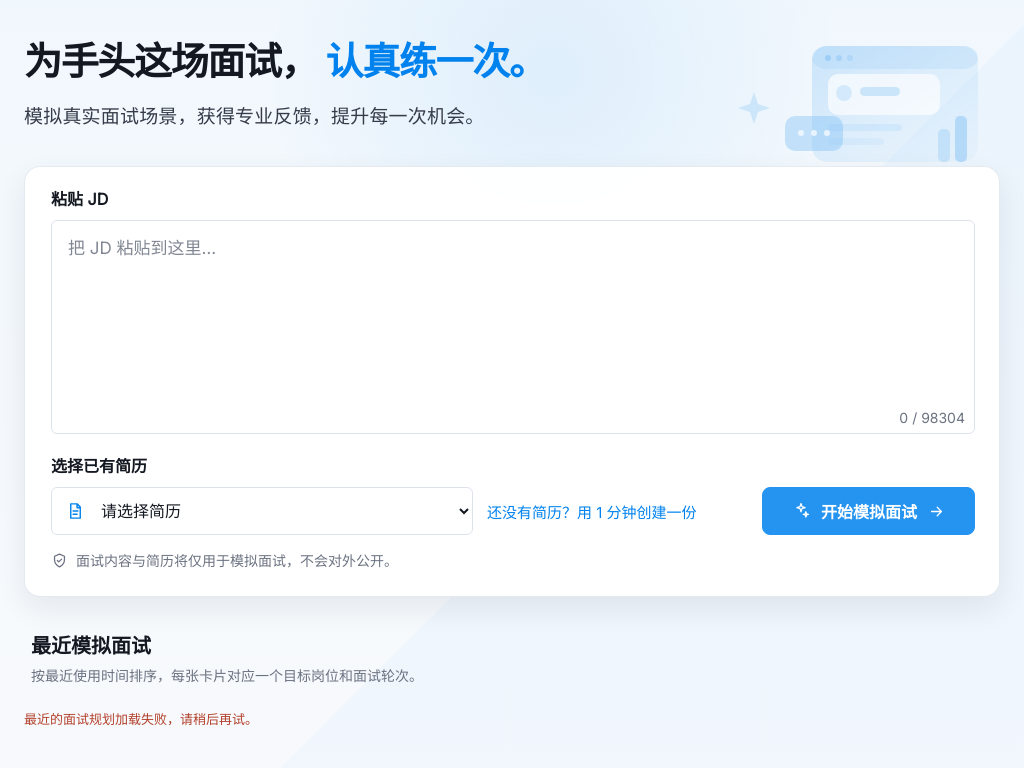
Test: HomeImport — paste-only › renders a user-safe import failure and keeps the paste ready to retry
Select "Alice Example - Senior Frontend Engineer" in the dropdown with test id "home-resume-select". click: (262, 511)
box: [51,487,473,535]
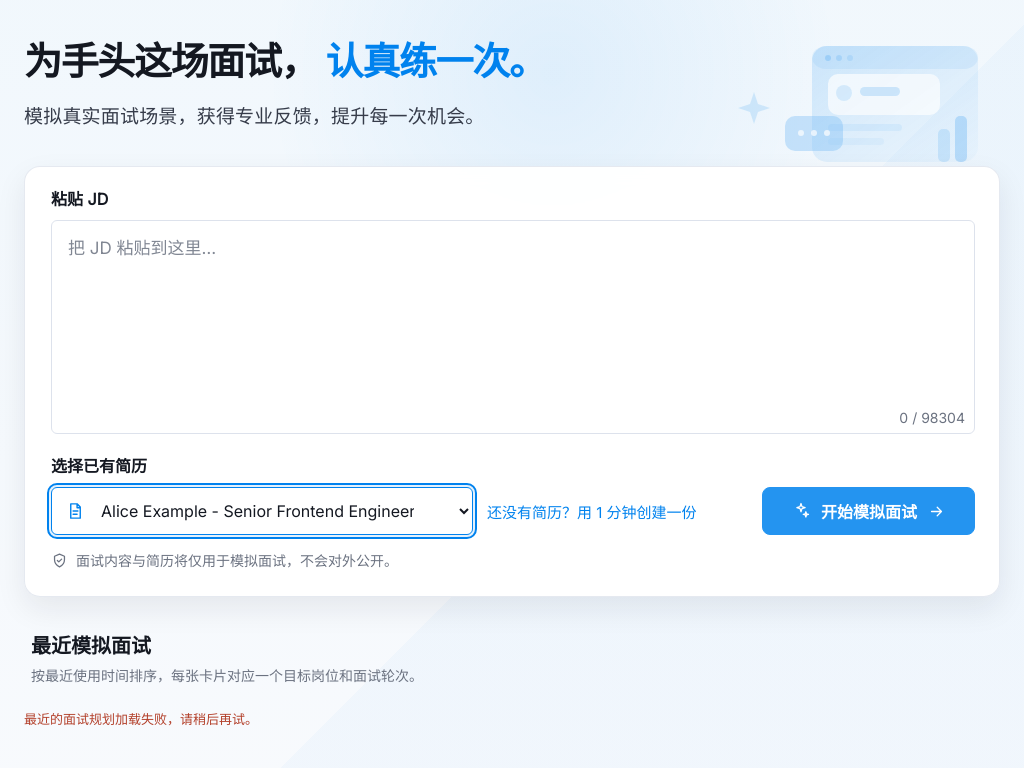
Type "Senior Frontend Engineer needed" into the text box with test id "home-jd-textarea". click: (513, 327)
box: [52,221,974,433]
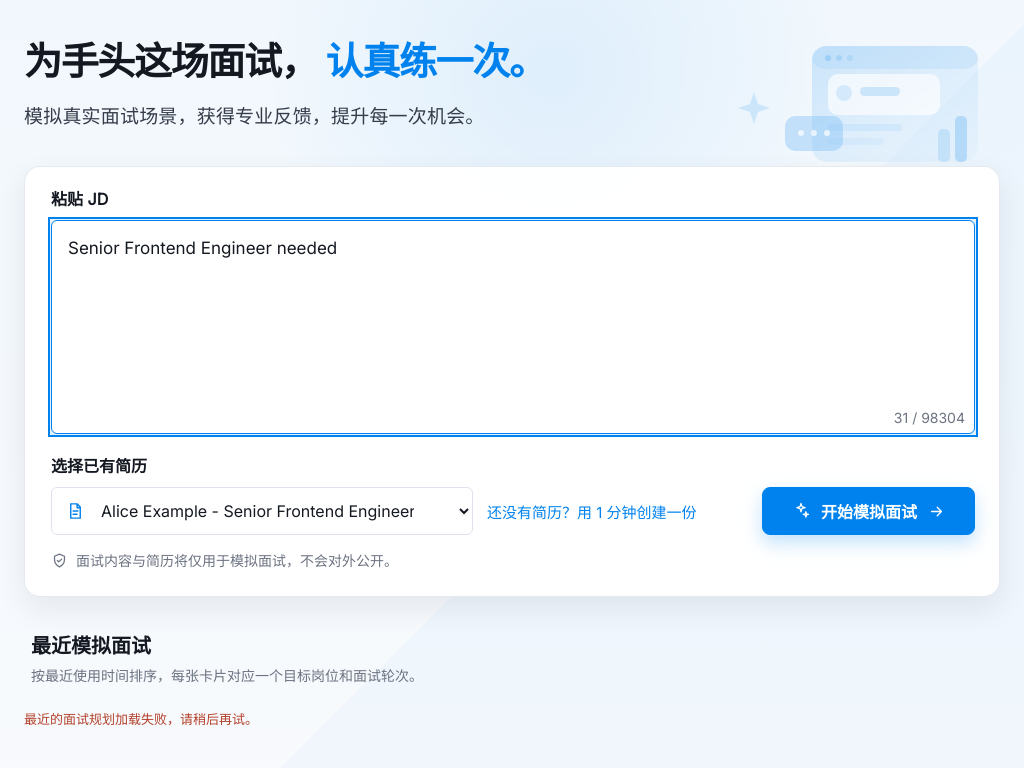
Click the button with test id "home-jd-submit". click: (868, 511)
box: [762,487,975,535]
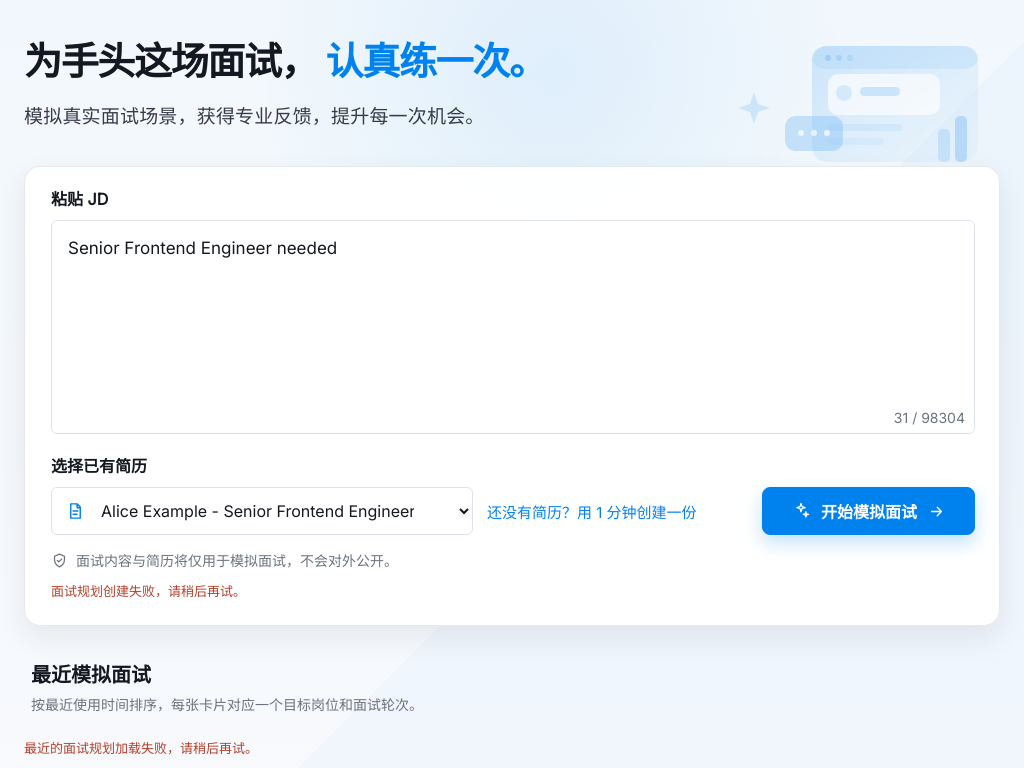
Check: the button with test id "home-jd-submit" is enabled, box [762,487,975,535]
Check: the text with test id "home-import-error" reads "面试规划创建失败，请稍后再试。", box [51,583,246,599]
